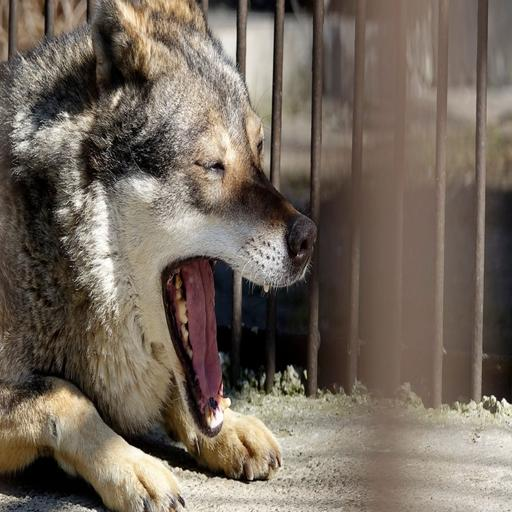Wolf: (0, 0, 319, 512)
